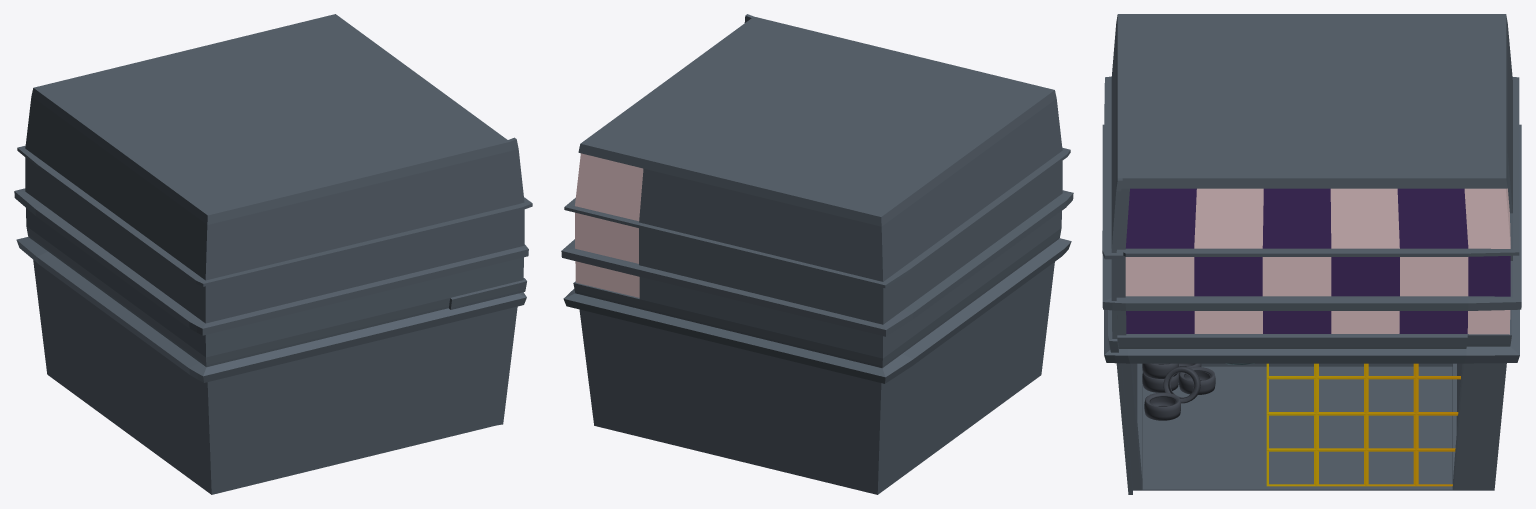
Rendered from Garage.fbx.
The picture shows the model from 3 angles, left to right: view 1: azimuth 30°, elevation 25°; view 2: azimuth 150°, elevation 25°; view 3: azimuth 270°, elevation 25°; orthographic projection. The views are drawn at different scales.
Parts seen in each view (by area): view 1: Garage; view 2: Garage; view 3: Garage.
Part boxes in pixels (box(x1,y1,x2,y2)): Garage: box(14, 14, 532, 494); Garage: box(561, 14, 1073, 494); Garage: box(1102, 14, 1521, 494).
Bounding box in the file's own units: 2425 × 1989 × 2371.
